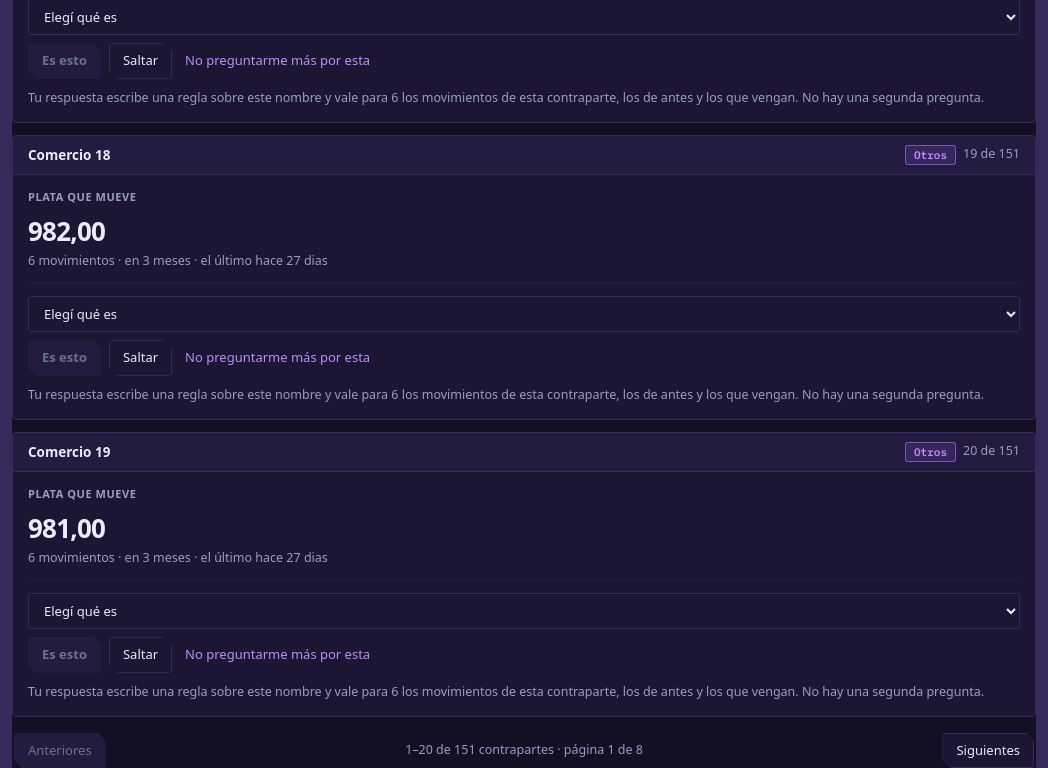
Test: pestaña 'Qué es esto' — 151 grupos por plata › se puede avanzar y volver de página (W5/R15)
(page scrolled)
Click the button with test id "pagina-siguiente" at (988, 750), box [942,732,1034,767]
(page scrolled)
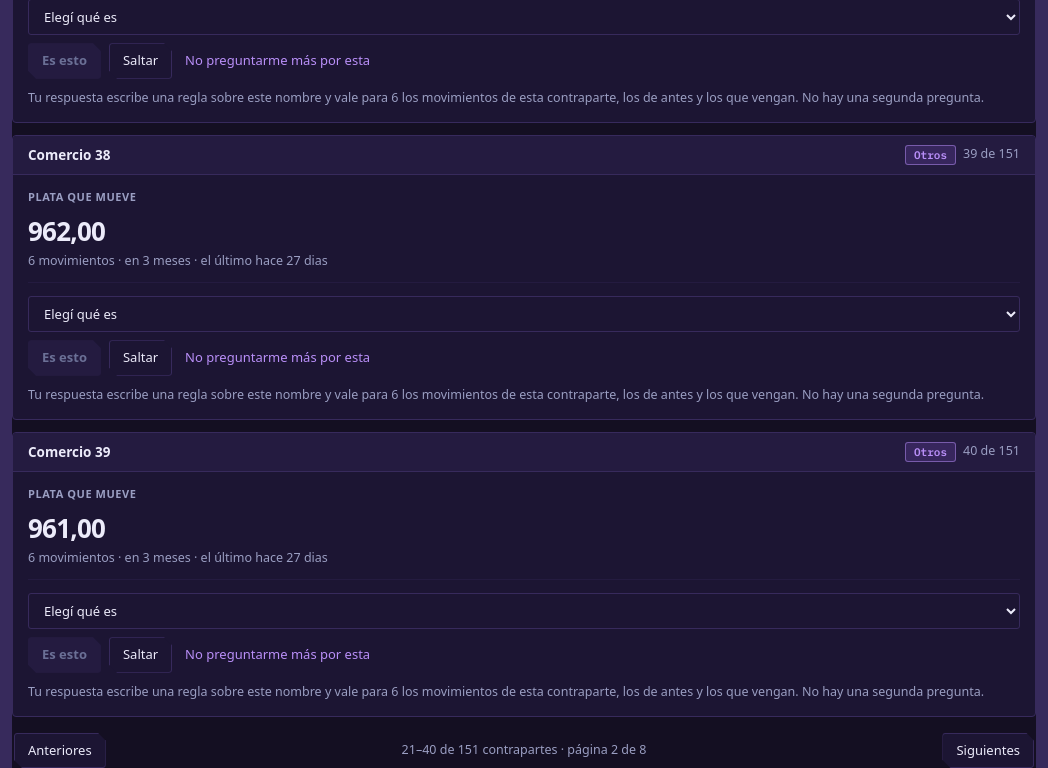
Expected: the text with test id "pagina-rango" shows "21–40 de 151", [402,741,646,758]
Click the button with test id "pagina-anterior" at (60, 750), box [14,732,106,767]
(page scrolled)
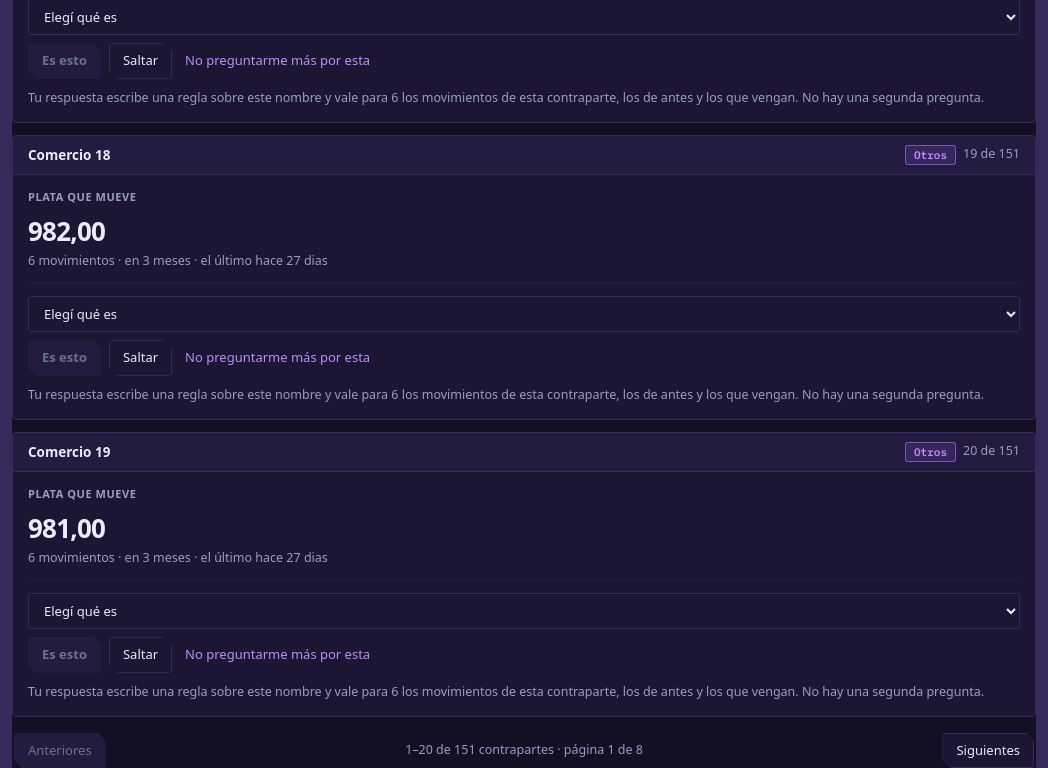
Expected: the text with test id "pagina-rango" shows "1–20 de 151", [405,741,643,758]
